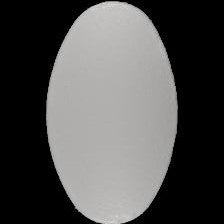54868-0080: (0, 0, 224, 224)
